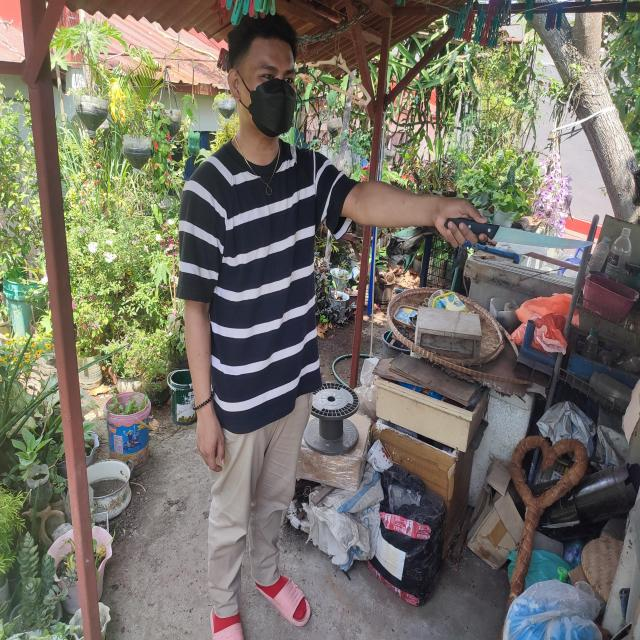knife: (443, 217, 595, 249)
